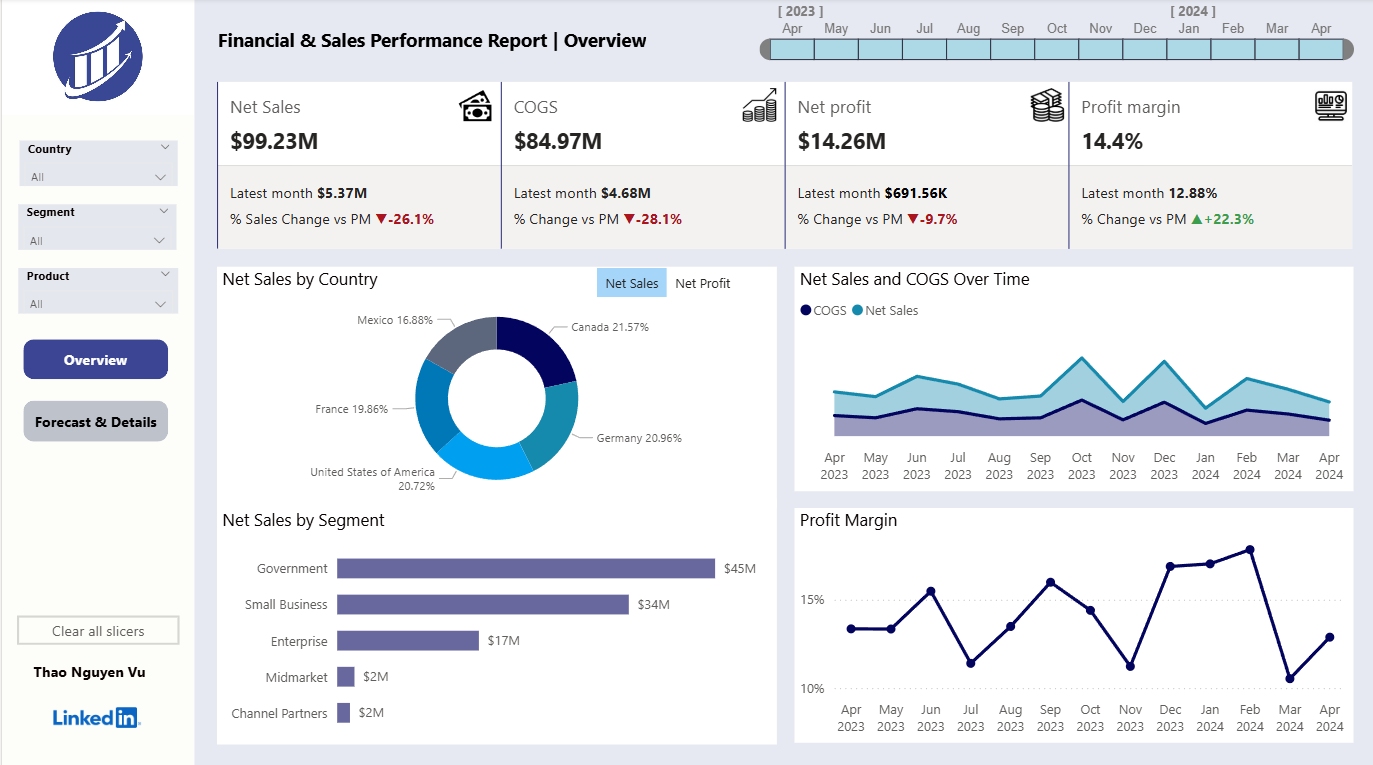

This screenshot's page, from the dashboard's own definition file:
{"tool":"powerbi","page":{"name":"Overview","canvas":[1280,720],"ordinal":0},"visuals":[{"type":"cardVisual","fields":{"Data":["Measurement.Net Sales","Measurement.COGS","Measurement.Net profit","Measurement.Profit margin"]},"box":[200.3,73.6,1057,165.3],"z":0},{"type":"donutChart","fields":{"Y":["Measurement.Net Sales"],"Category":["FACT_Sales.Country"]},"box":[200,250,520.9,224.4],"z":2000},{"type":"shape","box":[0,0,179.1,720.9],"z":3000},{"type":"image","box":[680.5,79.6,48.3,41],"z":4000},{"type":"image","box":[0,0,178.4,108.4],"z":5000},{"type":"actionButton","box":[19.8,317.4,134.9,37.2],"z":6000},{"type":"slicer","fields":{"Values":["FACT_Sales.Product"]},"box":[15,251,148.8,42.5],"z":7000},{"type":"actionButton","box":[14.3,574,151.2,27.4],"z":8000},{"type":"slicer","fields":{"Values":["FACT_Sales.Segment"]},"box":[15,192,147.5,42.5],"z":9000},{"type":"image","box":[950.8,79.6,42.2,41],"z":10000},{"type":"stackedAreaChart","title":"Net Sales and COGS Over Time","fields":{"Category":["DIM_Calendar.Month Year"],"Y":["Measurement.COGS","Measurement.Net Sales"]},"box":[737.5,250,520,208.8],"z":11000},{"type":"image","box":[42.6,632.1,91.1,73.5],"z":12000},{"type":"textbox","box":[24.4,612.8,124.4,37.2],"z":13000},{"type":"lineChart","title":"Profit Margin","fields":{"Y":["Measurement.Profit margin"],"Category":["DIM_Calendar.Month Year"]},"box":[737.5,475,520,218.8],"z":14000},{"type":"advancedSlicerVisual","fields":{"Values":["Parameter.Parameter"]},"box":[553.5,251.2,131.4,27.9],"z":15000},{"type":"actionButton","box":[19.8,374.4,134.9,38.4],"z":16000},{"type":"barChart","fields":{"Y":["Measurement.Net Sales"],"Category":["FACT_Sales.Segment"]},"box":[200,474.4,521,219.8],"z":17000},{"type":"slicer","fields":{"Values":["FACT_Sales.Country"]},"box":[16,133,147.5,42.5],"z":18000},{"type":"image","box":[1215.1,74.8,42.2,51.9],"z":19000},{"type":"image","box":[419.9,79.6,41,41],"z":20000},{"type":"Timeline1447991079100","fields":{"Time":["DIM_Calendar.Date"]},"box":[705,10,555,57],"z":21000},{"type":"shape","box":[704.7,0,81.4,24.4],"z":22000},{"type":"shape","box":[1069.8,0,81.4,24.4],"z":23000},{"type":"shape","box":[200,466.3,521,8.1],"z":24000},{"type":"shape","box":[200,24.4,400,26.7],"z":24001}]}

Visuals, with their boxes in screenshot pixels (x1, y1, x2, y2), scaled from the page's 1280x720 canvas onto the 1373x765 screenshot:
cardVisual - Measurement.Net Sales x Measurement.COGS: {"left": 215, "top": 78, "right": 1349, "bottom": 254}
donutChart - Measurement.Net Sales x FACT_Sales.Country: {"left": 215, "top": 266, "right": 773, "bottom": 504}
shape: {"left": 0, "top": 0, "right": 192, "bottom": 764}
image: {"left": 730, "top": 85, "right": 782, "bottom": 128}
image: {"left": 0, "top": 0, "right": 191, "bottom": 115}
actionButton: {"left": 21, "top": 337, "right": 166, "bottom": 377}
slicer - FACT_Sales.Product: {"left": 16, "top": 267, "right": 176, "bottom": 312}
actionButton: {"left": 15, "top": 610, "right": 178, "bottom": 639}
slicer - FACT_Sales.Segment: {"left": 16, "top": 204, "right": 174, "bottom": 249}
image: {"left": 1020, "top": 85, "right": 1065, "bottom": 128}
"Net Sales and COGS Over Time" stackedAreaChart: {"left": 791, "top": 266, "right": 1349, "bottom": 487}
image: {"left": 46, "top": 672, "right": 143, "bottom": 750}
textbox: {"left": 26, "top": 651, "right": 160, "bottom": 691}
"Profit Margin" lineChart: {"left": 791, "top": 505, "right": 1349, "bottom": 737}
advancedSlicerVisual - Parameter.Parameter: {"left": 594, "top": 267, "right": 735, "bottom": 297}
actionButton: {"left": 21, "top": 398, "right": 166, "bottom": 439}
barChart - Measurement.Net Sales x FACT_Sales.Segment: {"left": 215, "top": 504, "right": 773, "bottom": 738}
slicer - FACT_Sales.Country: {"left": 17, "top": 141, "right": 175, "bottom": 186}
image: {"left": 1303, "top": 79, "right": 1349, "bottom": 135}
image: {"left": 450, "top": 85, "right": 494, "bottom": 128}
Timeline1447991079100 - DIM_Calendar.Date: {"left": 756, "top": 11, "right": 1352, "bottom": 71}
shape: {"left": 756, "top": 0, "right": 843, "bottom": 26}
shape: {"left": 1148, "top": 0, "right": 1235, "bottom": 26}
shape: {"left": 215, "top": 495, "right": 773, "bottom": 504}
shape: {"left": 215, "top": 26, "right": 644, "bottom": 54}
